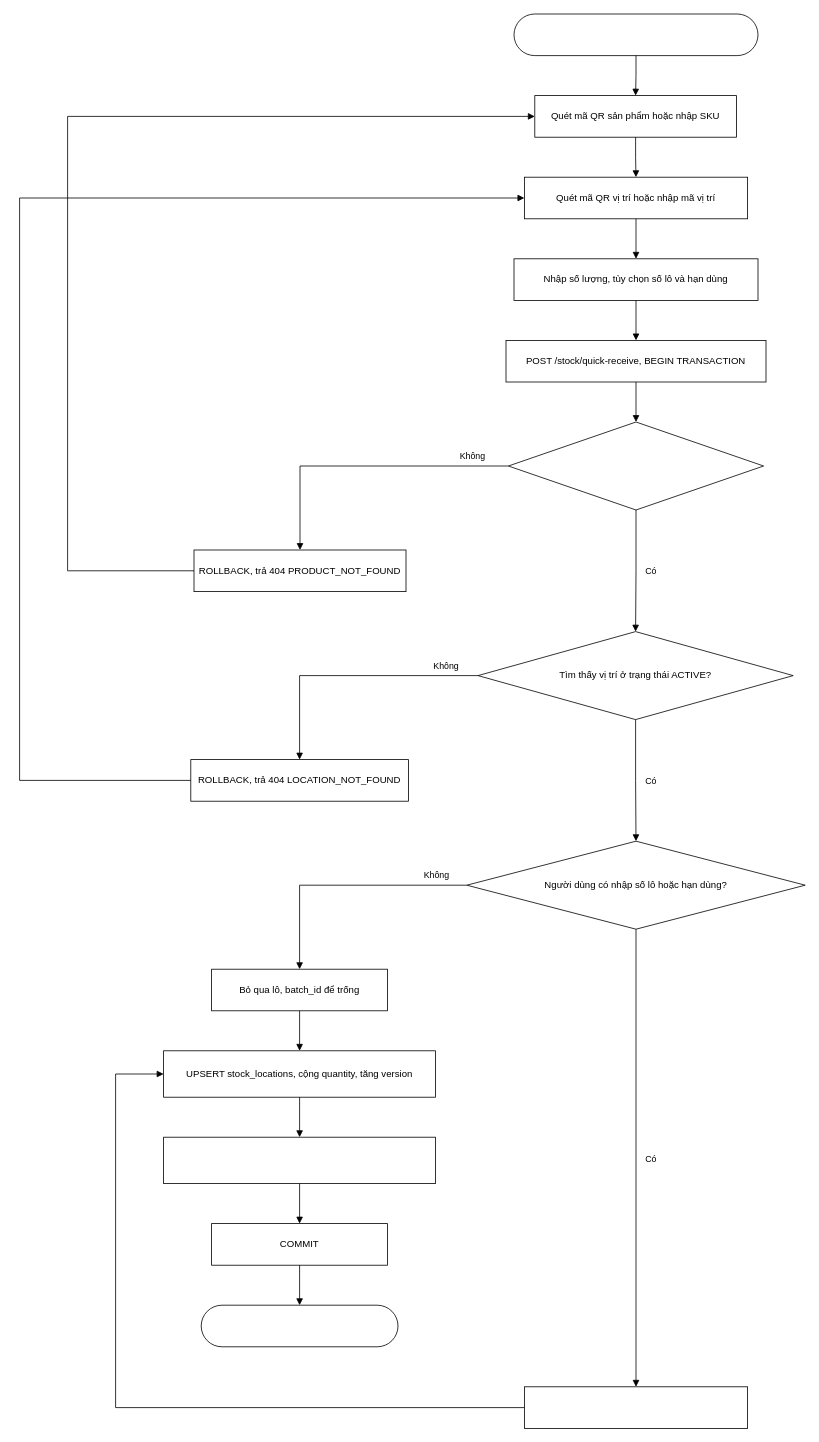
The diagram is 819 pixels wide and 1442 high, and some of its shapes have lost their labels. The shapes that lost their labels are listed below. From the top down, each one's centre as x and y in pixels, then its label:
the point at 635,34: Bắt đầu: Nhân viên mở màn hình Nhận nhanh
the point at 636,465: Tìm thấy SKU đang hoạt động?
the point at 299,1160: Ghi inventory_transactions RECEIPT, reference_type QUICK_RECEIVE
the point at 299,1325: Kết thúc: Tồn tại vị trí đã tăng
the point at 636,1407: Tạo mới hoặc cập nhật product_batches
